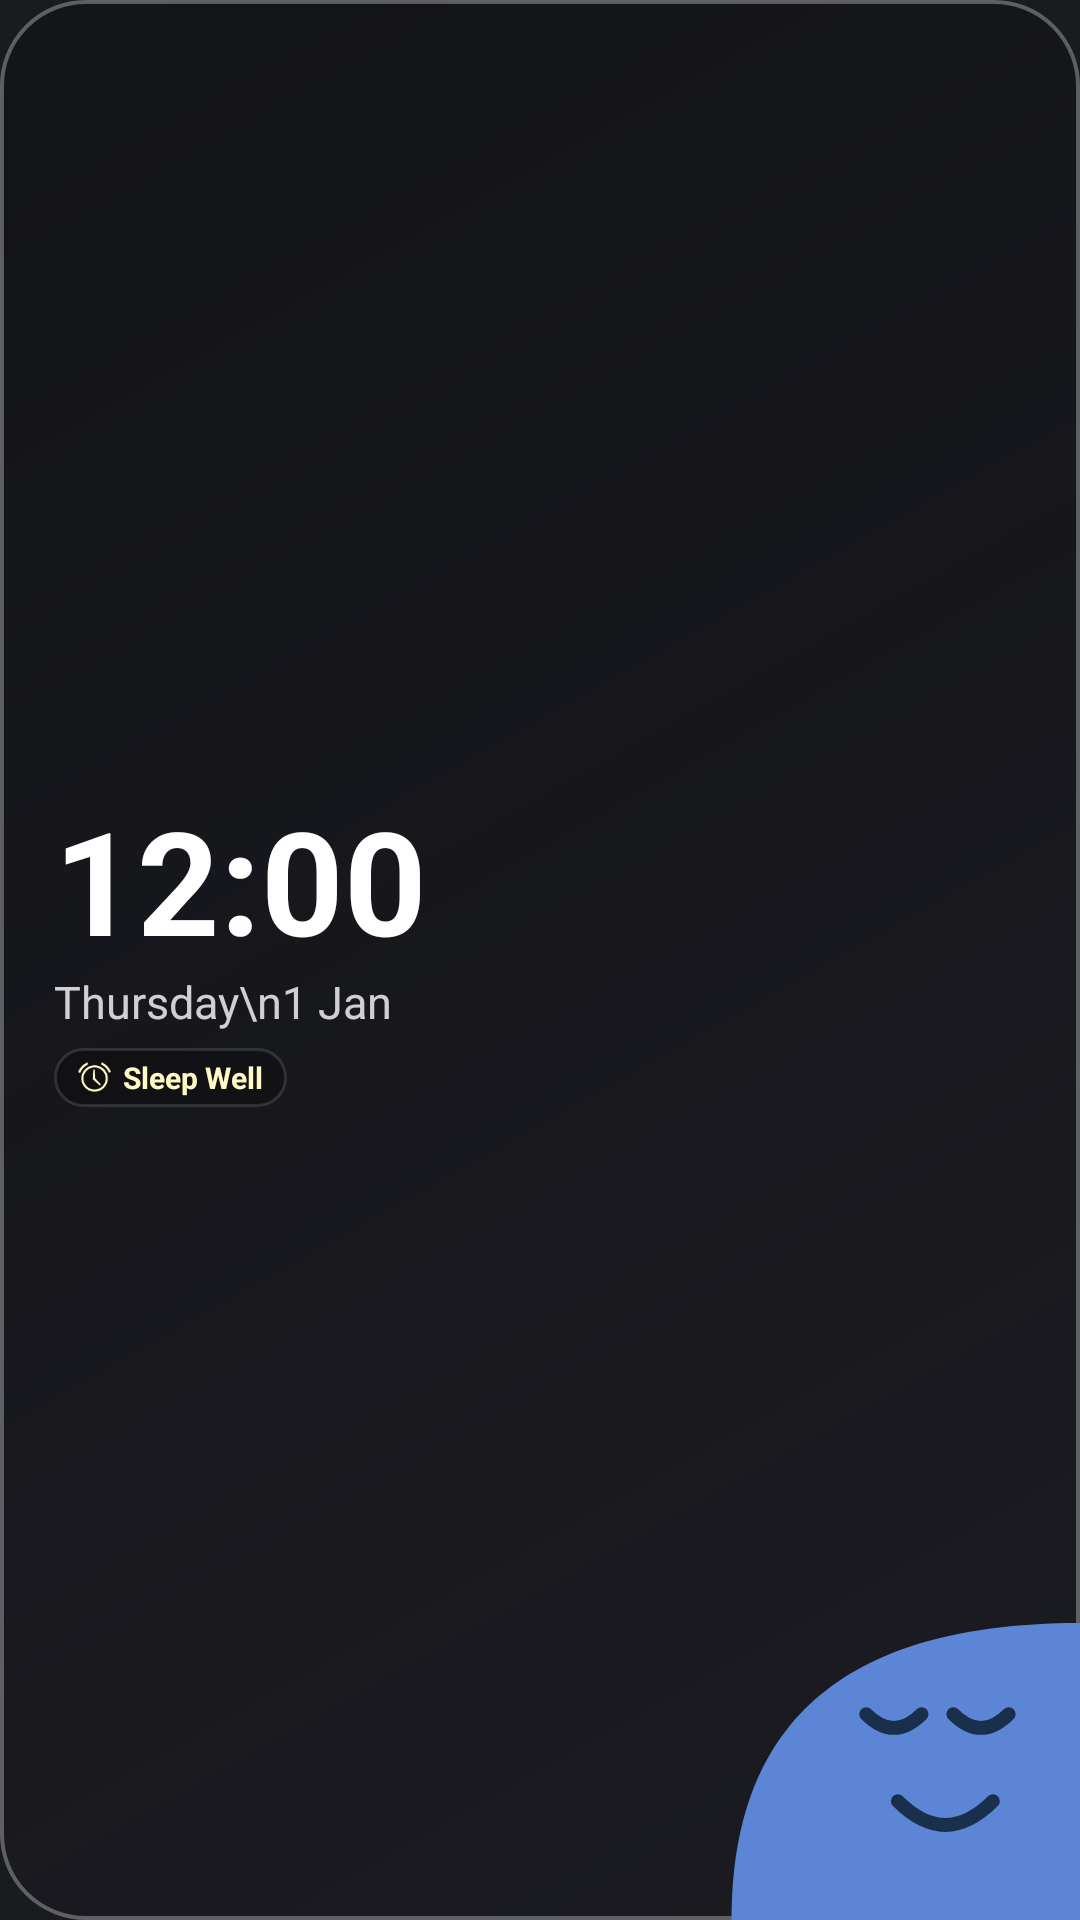

Icon click points for this 1080 × 1920 phone screenshot, format (x=x, y=y):
Alarm Icon: (x=94, y=1077)
